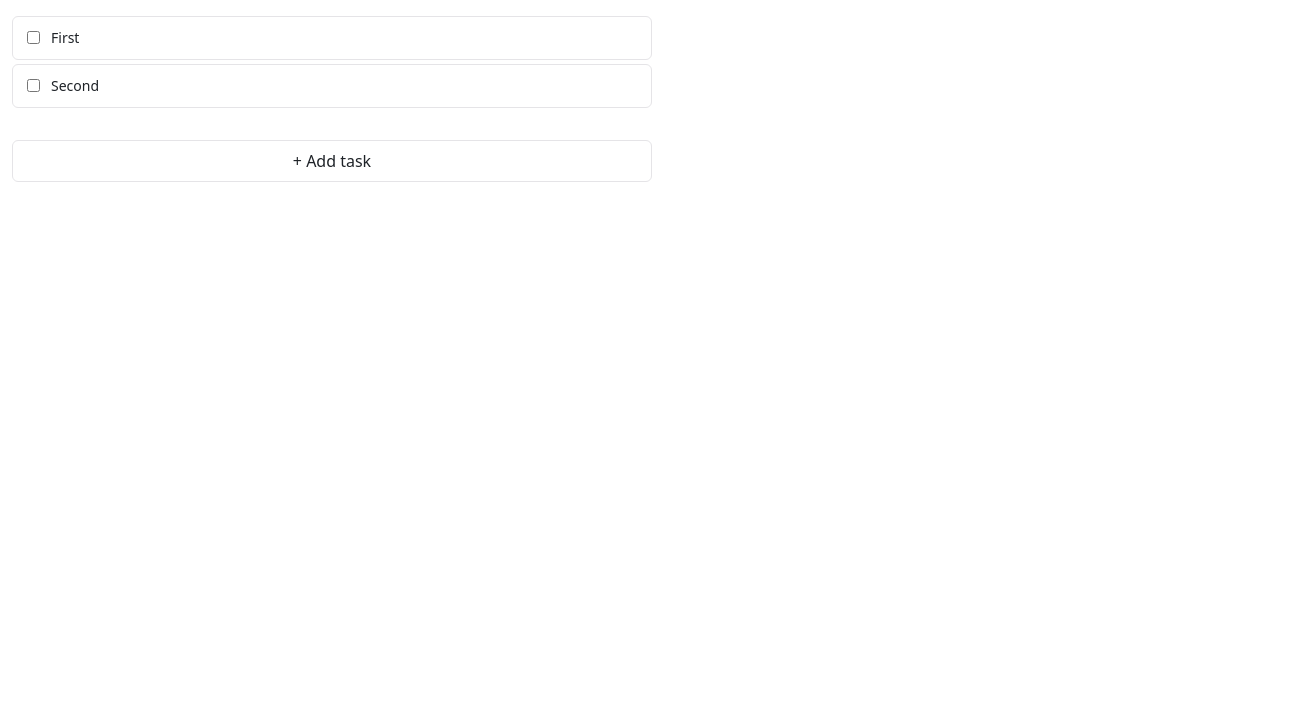
Test: TaskList › completing a task strikes it through, moves it to the bottom, and persists via the API (AE1)
Check: the text "First" is shown, box [51,27,79,48]
Check: the text "Second" is shown, box [51,75,99,96]
Step 1. Click the checkbox named "Mark \"First\" complete" → (34, 38), box [27,31,40,44]
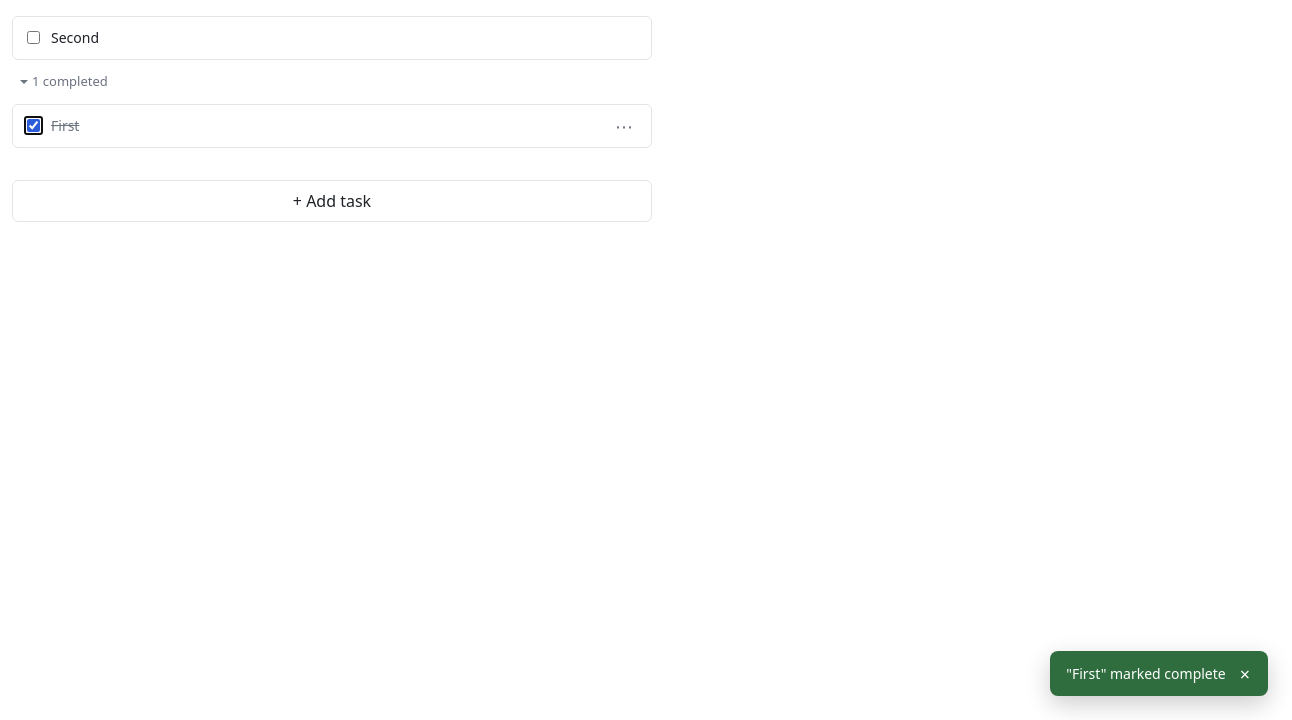
Check: the button "1 completed" is shown, box [22,68,108,96]
